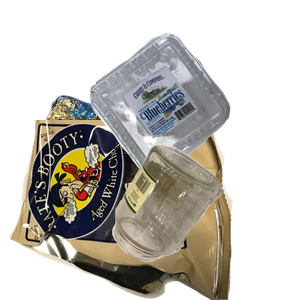glass: (110, 141, 300, 300)
metal: (42, 72, 239, 229)
plastic: (88, 31, 300, 198)
trash: (10, 120, 235, 300)
